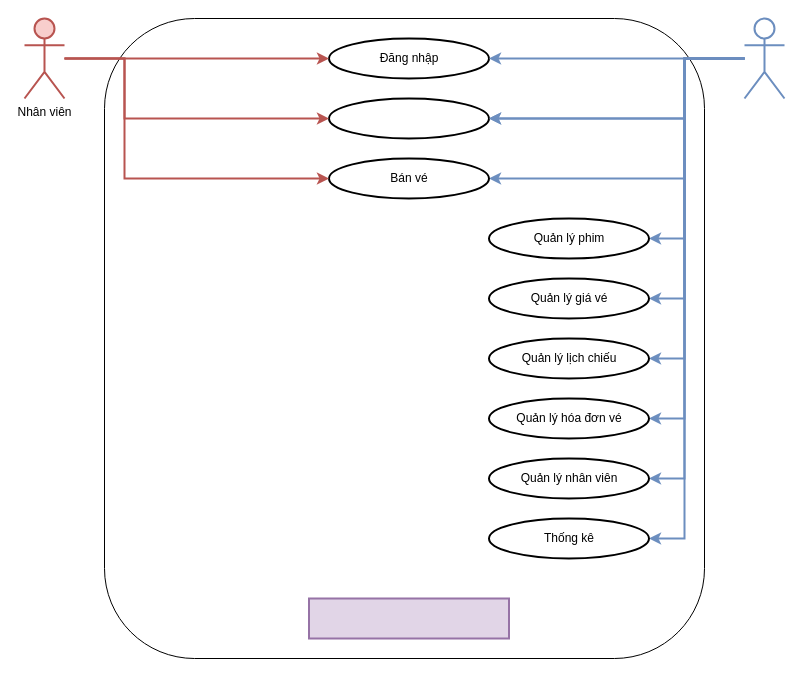
This 802x676 diagram has some shape labels left out. Each missing label, with the centre of its shape:
Hệ thống quản lý rạp phim: the point at 409,618
Quản lý: the point at 764,58
Xem lịch chiếu: the point at 409,118
